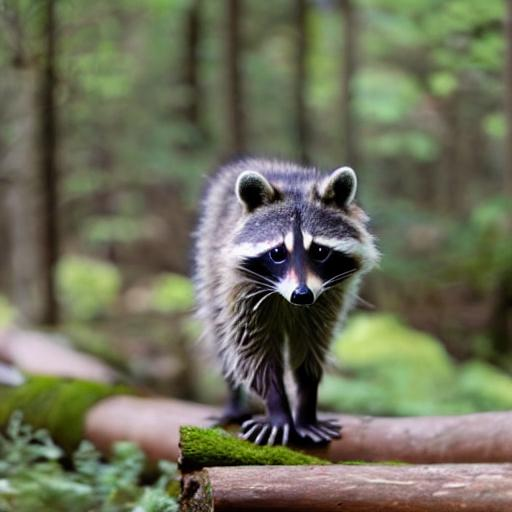raccoon: (180, 142, 389, 382)
